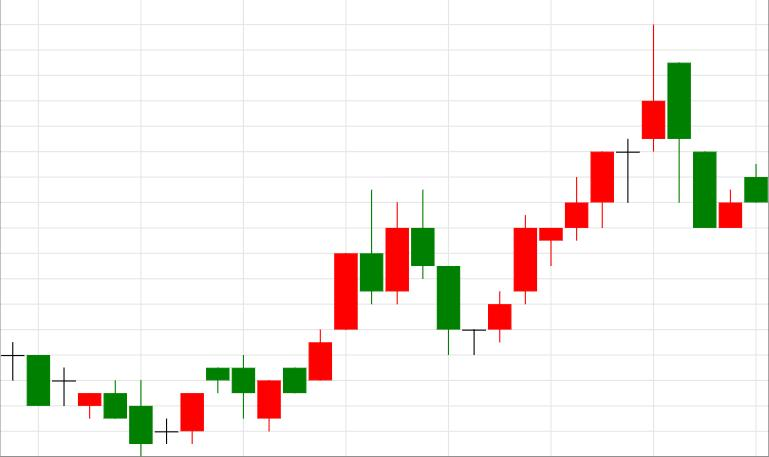shooting_star_fall: (463, 26, 665, 356), (258, 190, 383, 432)
